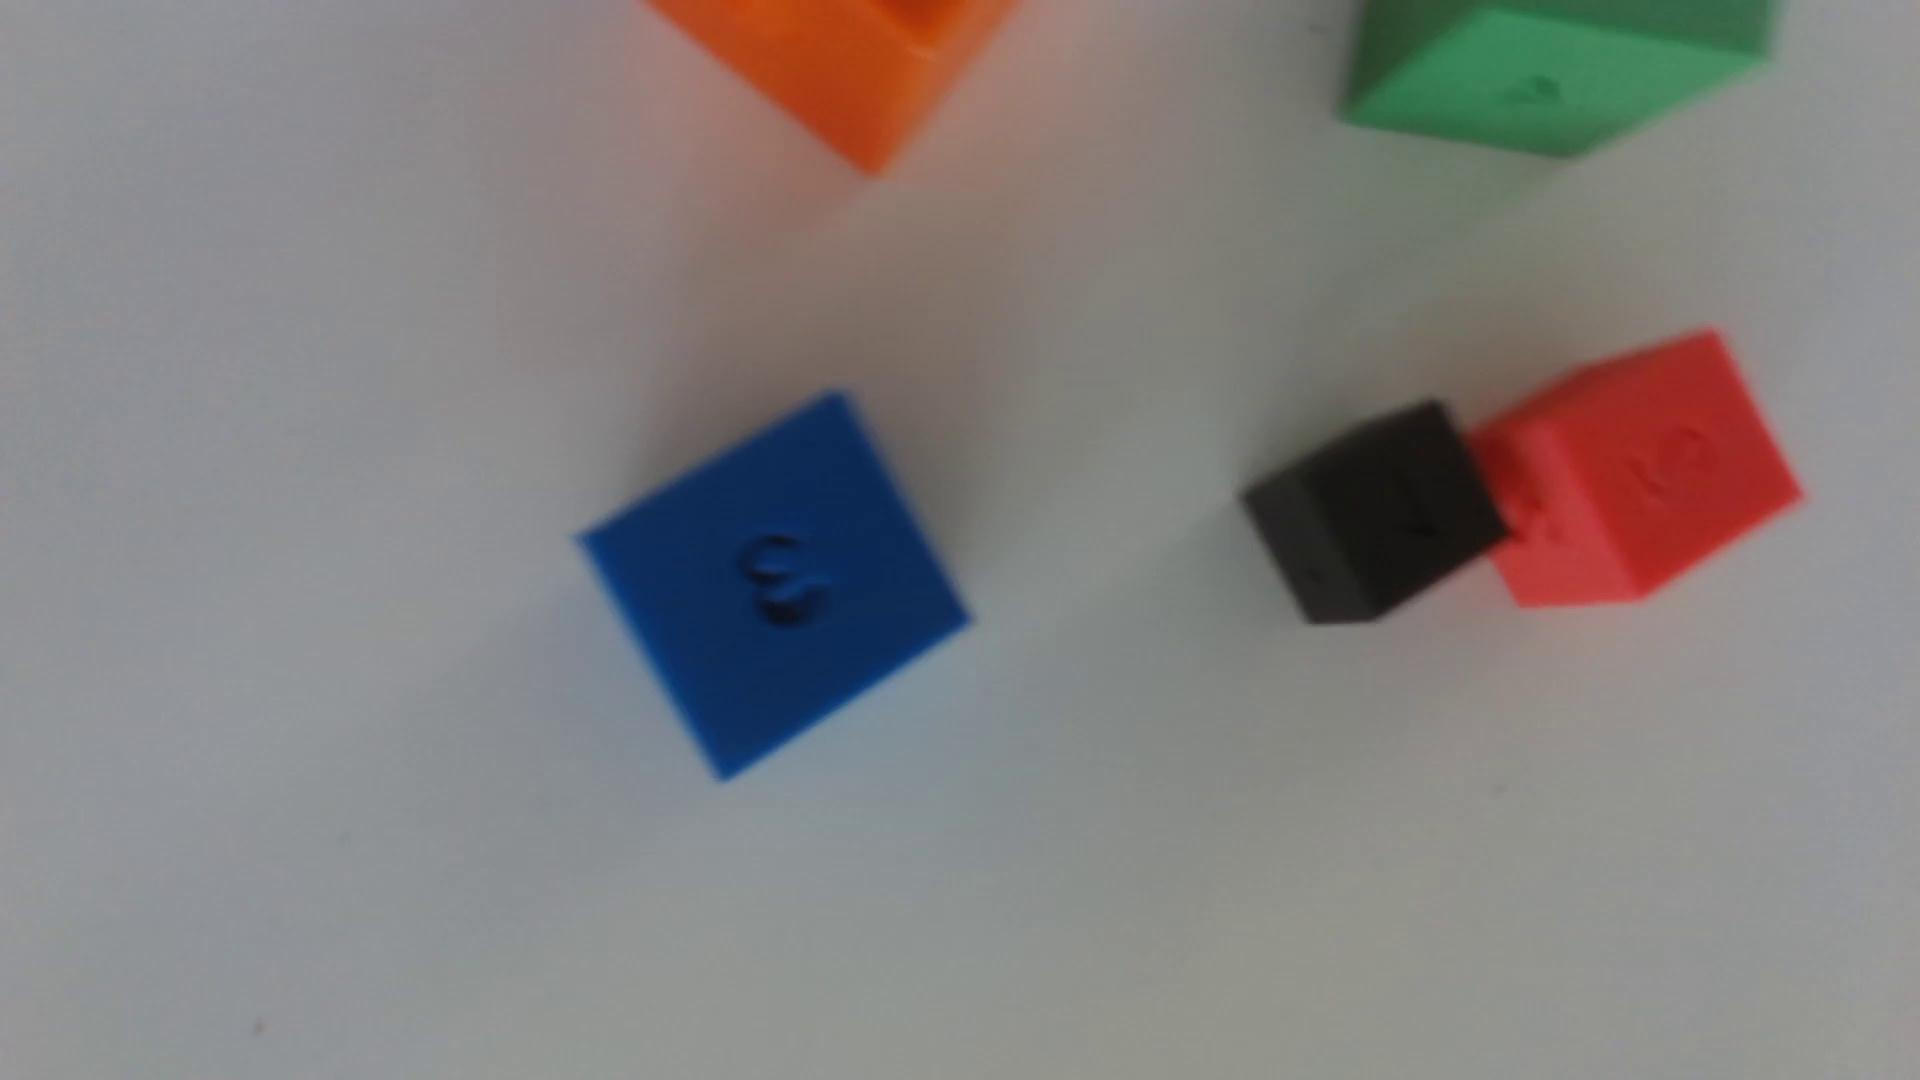black: (1240, 400, 1506, 624)
blue: (582, 393, 971, 777)
green: (1340, 0, 1774, 156)
orange: (647, 0, 1015, 175)
red: (1468, 328, 1801, 607)
